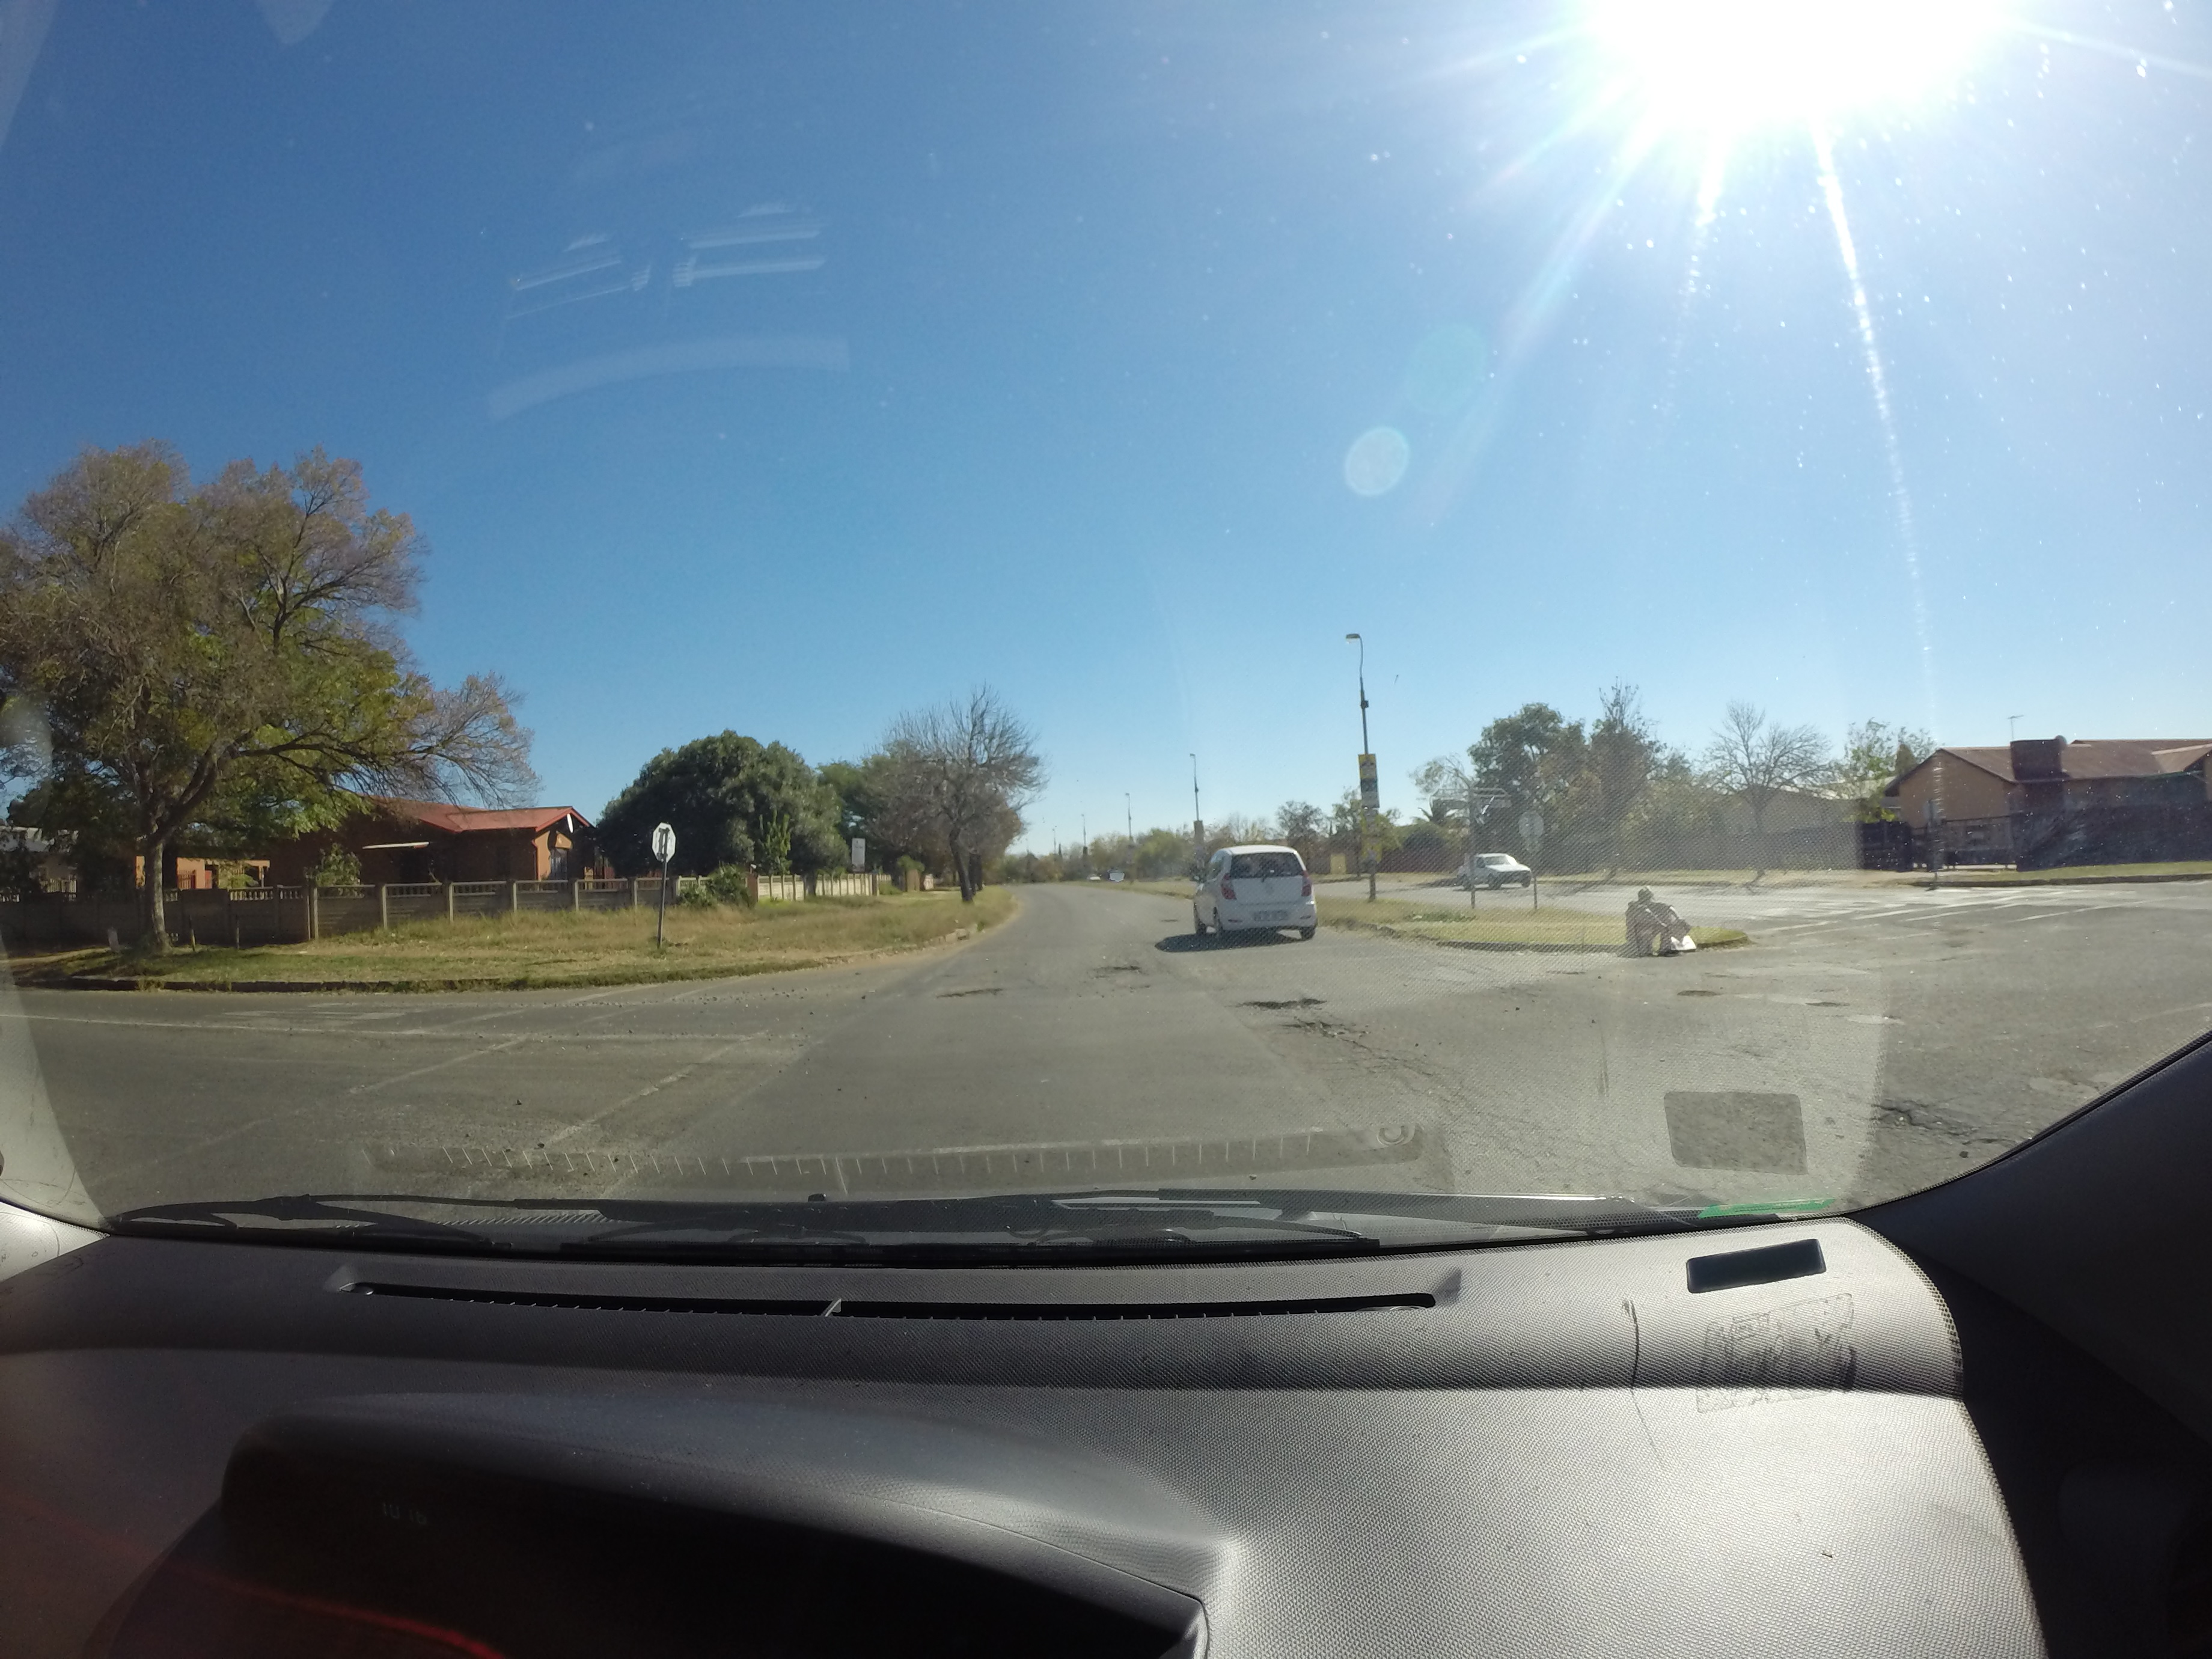pothole: (1219, 979, 1411, 1053)
